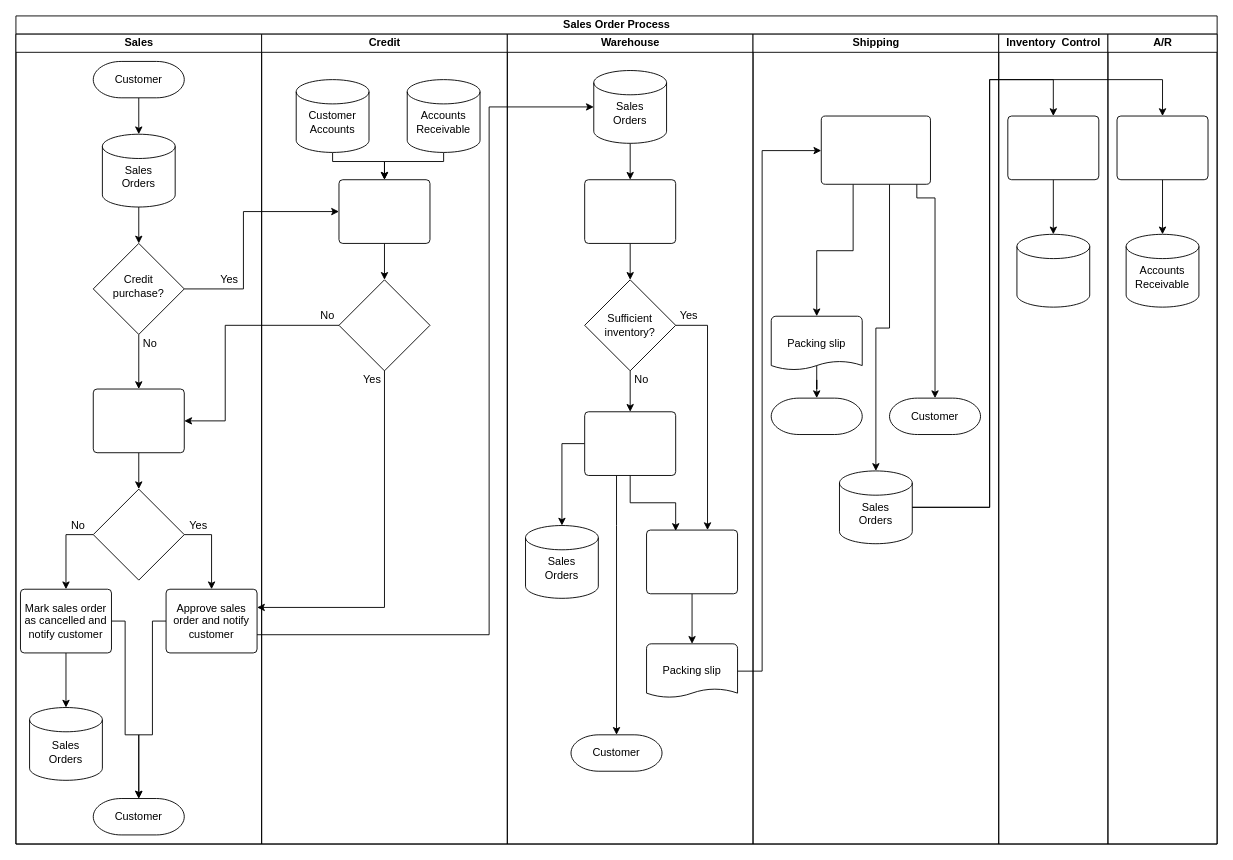
Some shapes in this 1233 by 860 pixel diagram are drawn without their labels. The shapes that lost their labels are listed below. From the top down, each one's centre as x and y in pixels, then its label:
At [875,149]: "Ship goods, mark order complete, and notify customer".
At [1053,147]: "Update inventory records".
At [1162,147]: "Update A/R records".
At [384,211]: "Credit check".
At [630,211]: "Verify inventory on hand".
At [1053,270]: "Inventory".
At [384,325]: "Approved for credit?".
At [138,420]: "Request payment".
At [816,416]: "Carrier".
At [630,443]: "Revise sales order and notify customer".
At [138,534]: "Payment received?".
At [692,561]: "Fill order".
